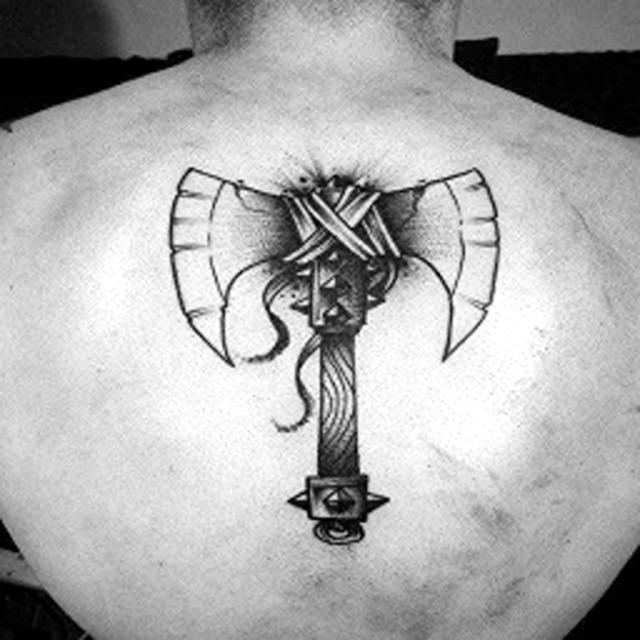ax: (158, 145, 516, 555)
